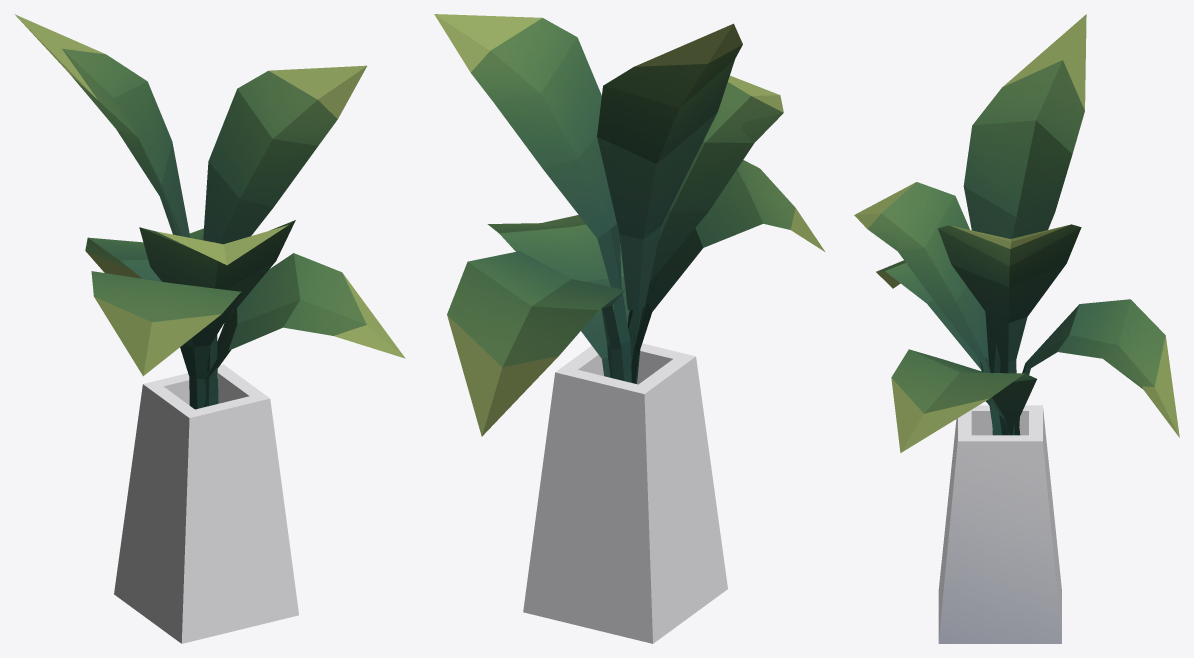
File: CMS_PlantB.fbx
The picture shows the model from 3 angles, left to right: view 1: azimuth 30°, elevation 25°; view 2: azimuth 150°, elevation 25°; view 3: azimuth 270°, elevation 25°; orthographic projection. The views are drawn at different scales.
Parts seen in each view (by area): view 1: PlantB; view 2: PlantB; view 3: PlantB.
Part boxes in pixels (x1,y1,x2,y2): PlantB: [14, 14, 405, 643]; PlantB: [434, 14, 824, 643]; PlantB: [854, 14, 1179, 643].
Bounding box in the file's own units: 355 × 643 × 352.
